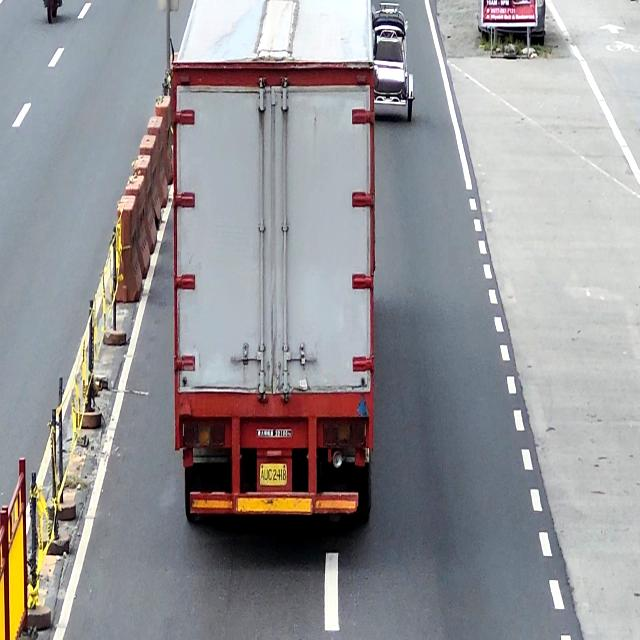License-Plate: (259, 464, 287, 486)
Tricycle: (371, 0, 415, 123)
Truck: (170, 0, 379, 534)
